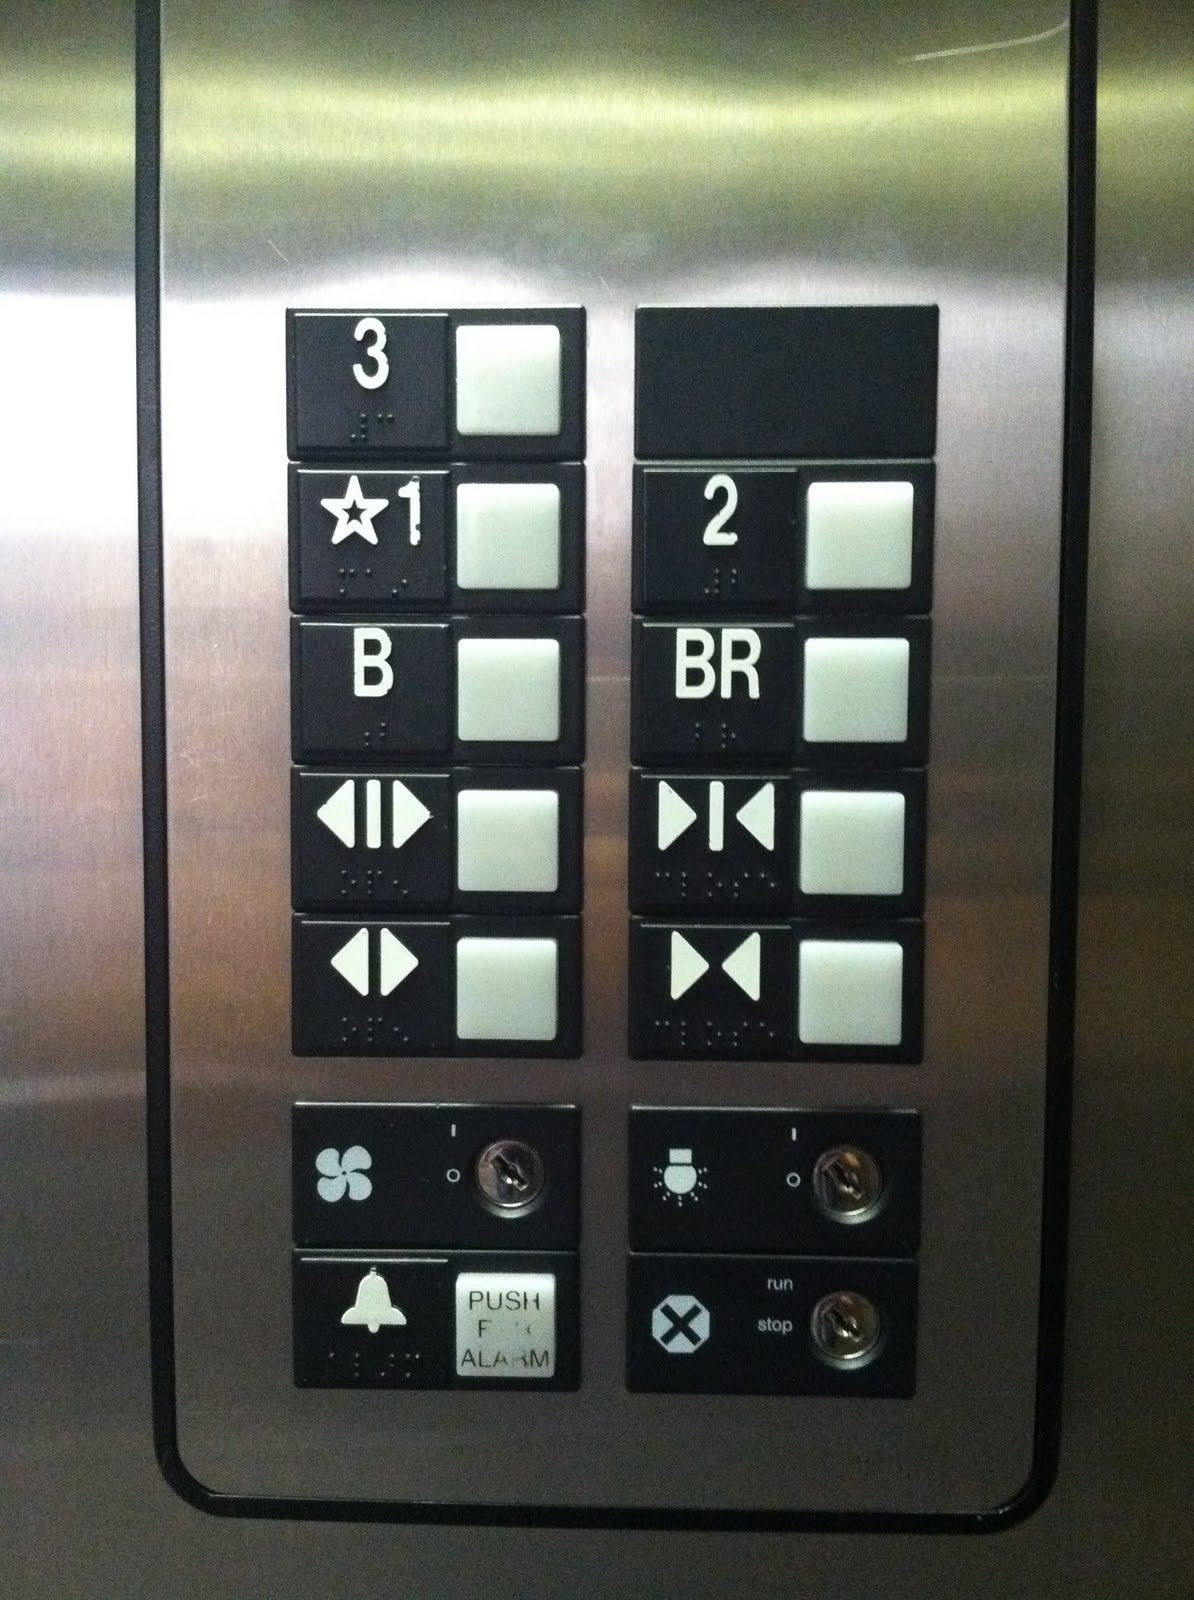2: (622, 451, 943, 626)
3: (271, 297, 600, 474)
B: (278, 604, 592, 777)
BR: (623, 603, 941, 779)
alarm: (283, 1241, 589, 1401)
close: (620, 754, 941, 928), (617, 909, 933, 1070)
fan: (283, 1091, 589, 1260)
light: (616, 1095, 938, 1265)
open: (278, 759, 594, 923), (280, 908, 594, 1067)
s1: (280, 451, 594, 623)
stop: (615, 1244, 926, 1406)
